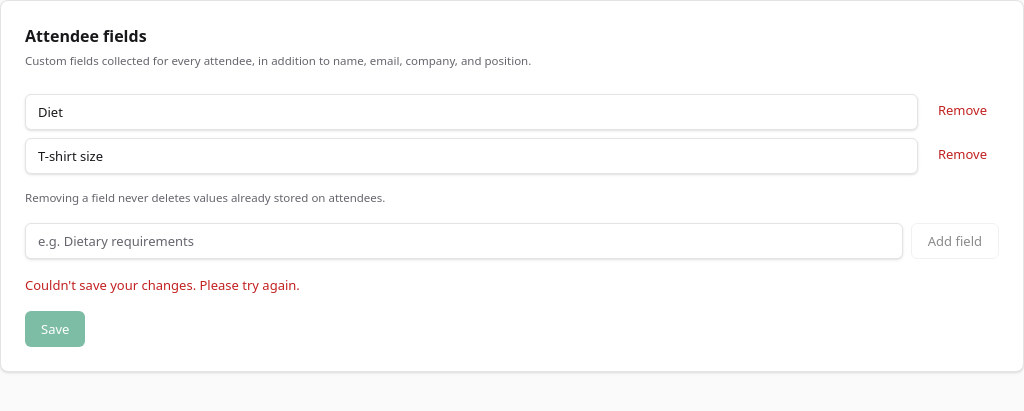
it: AttendeeFieldsCard › disables Save and shows a reserved-name error when a field collides with a standard field, case-insensitively
Replace the text in the field showing "Diet" with "Email": (471,112) [25,94,918,130]
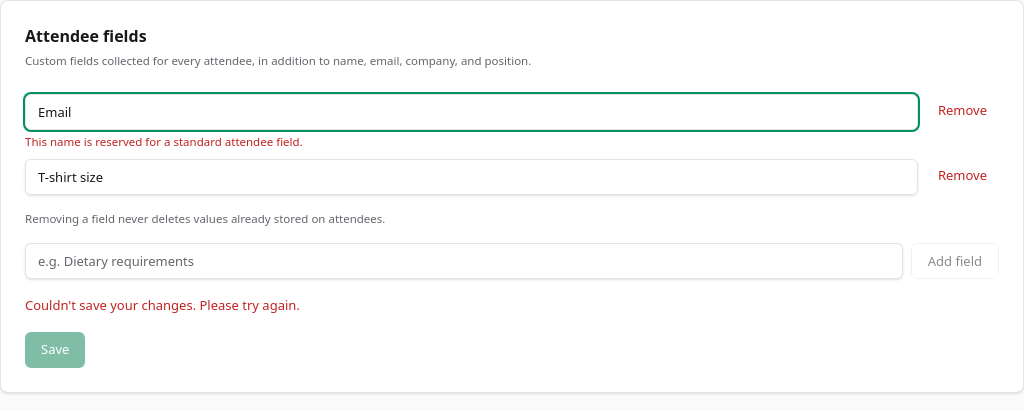
Expected: the button "Save" is disabled, [25,332,85,368]
Now the text "This name is reserved for a standard attendee field." is shown, box [25,134,303,149]
